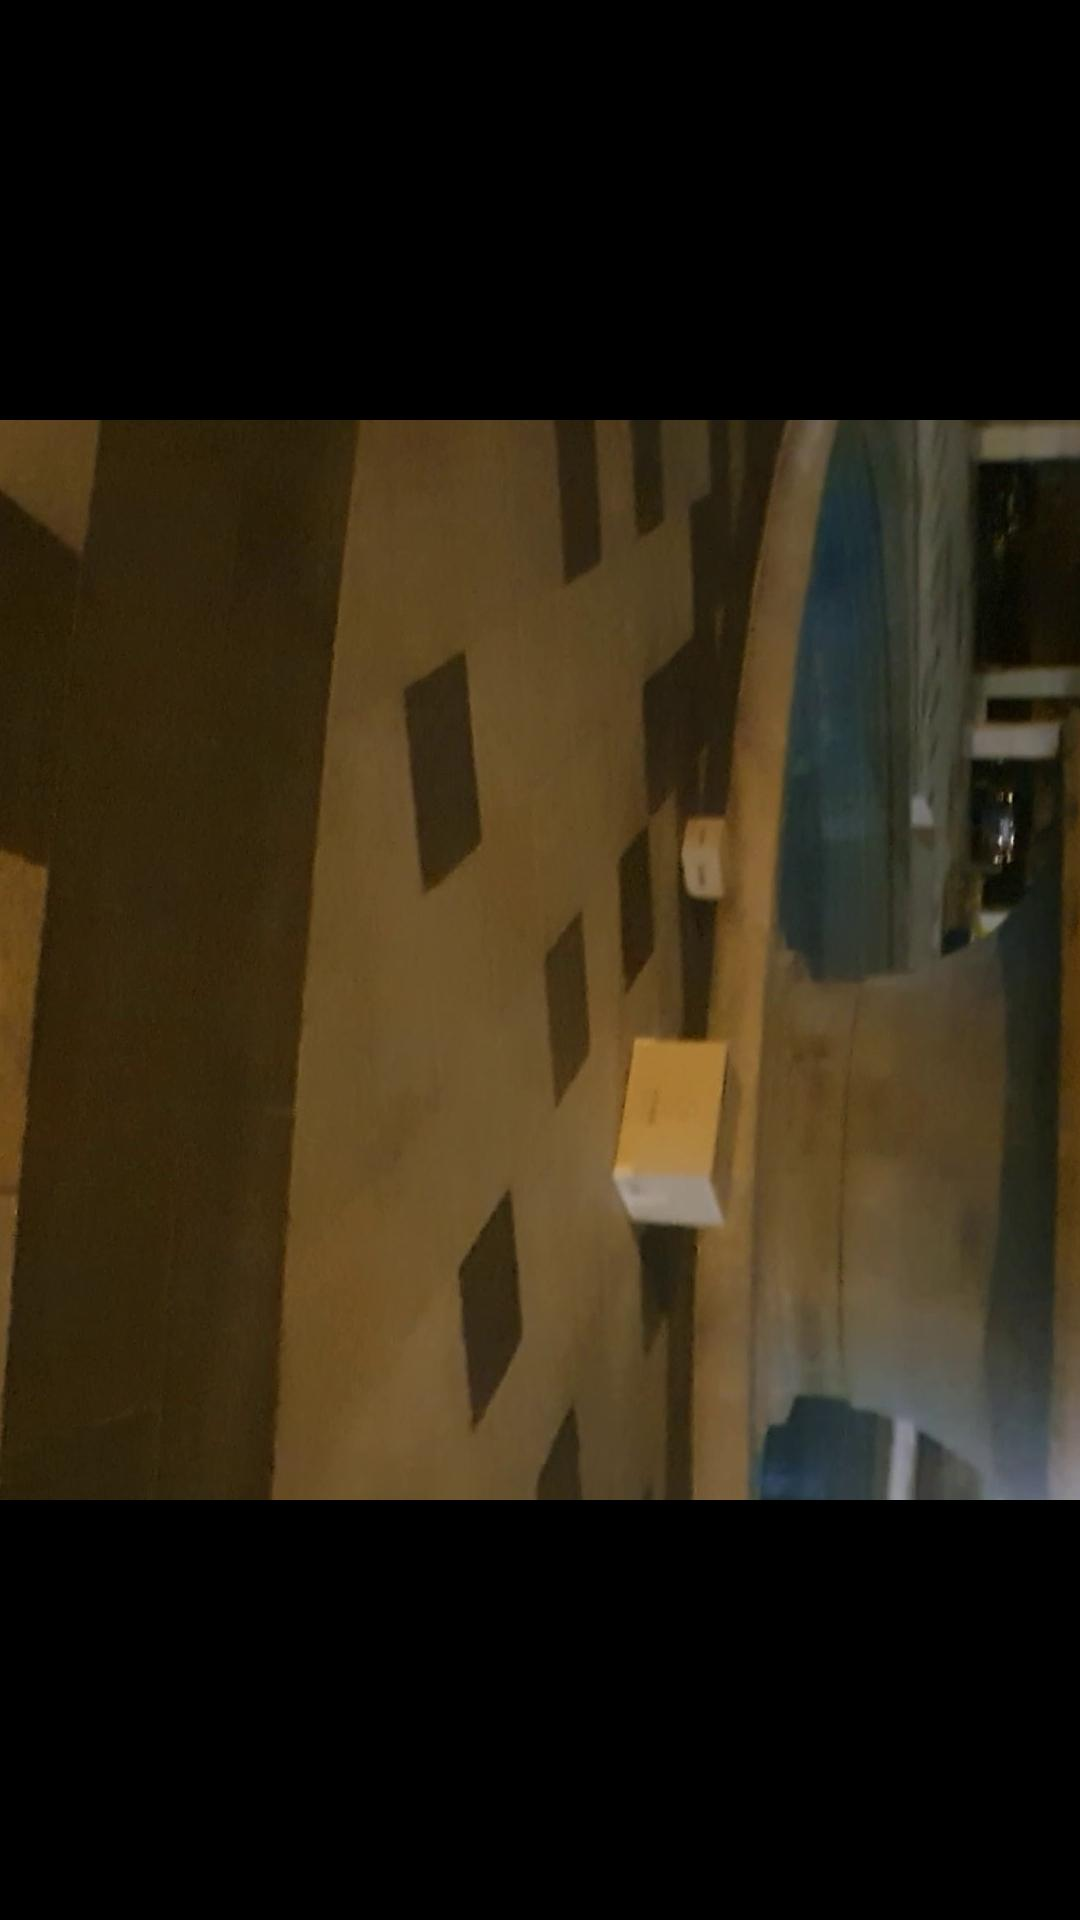Box: (608, 1036, 740, 1226), (673, 803, 735, 910)
